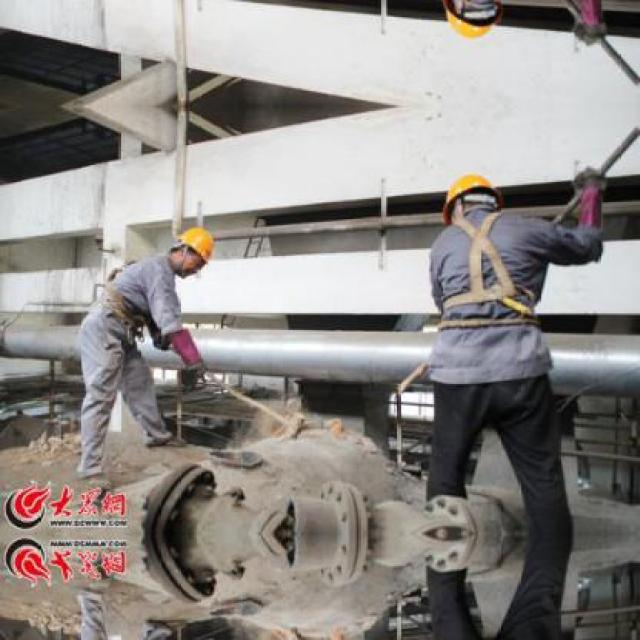helmet: (438, 170, 500, 236), (438, 0, 502, 43), (167, 221, 218, 274)
